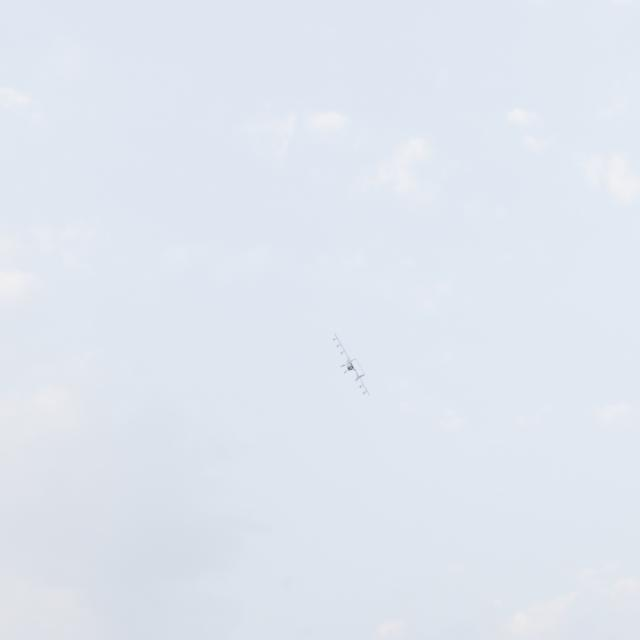Airaplan: (332, 333, 370, 396)
